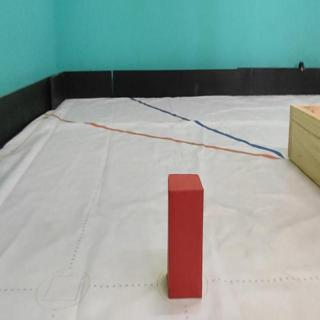redbox: (168, 173, 202, 299)
